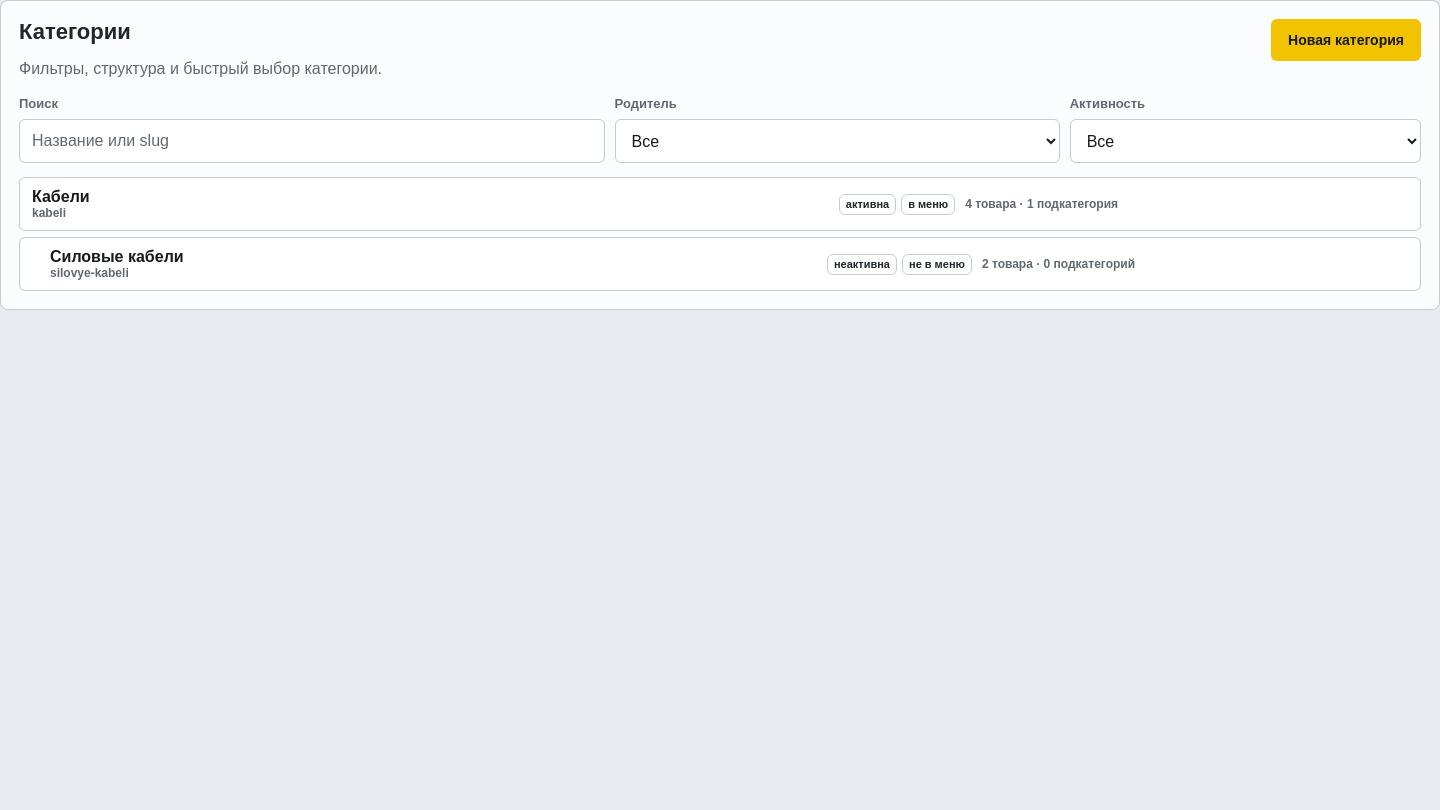
Test: AdminCategoryManager › подтверждает закрытие категории при изменениях формы, родителя или порядка
Click the list item "Силовые кабели" at (117,257), box [19,237,1421,291]
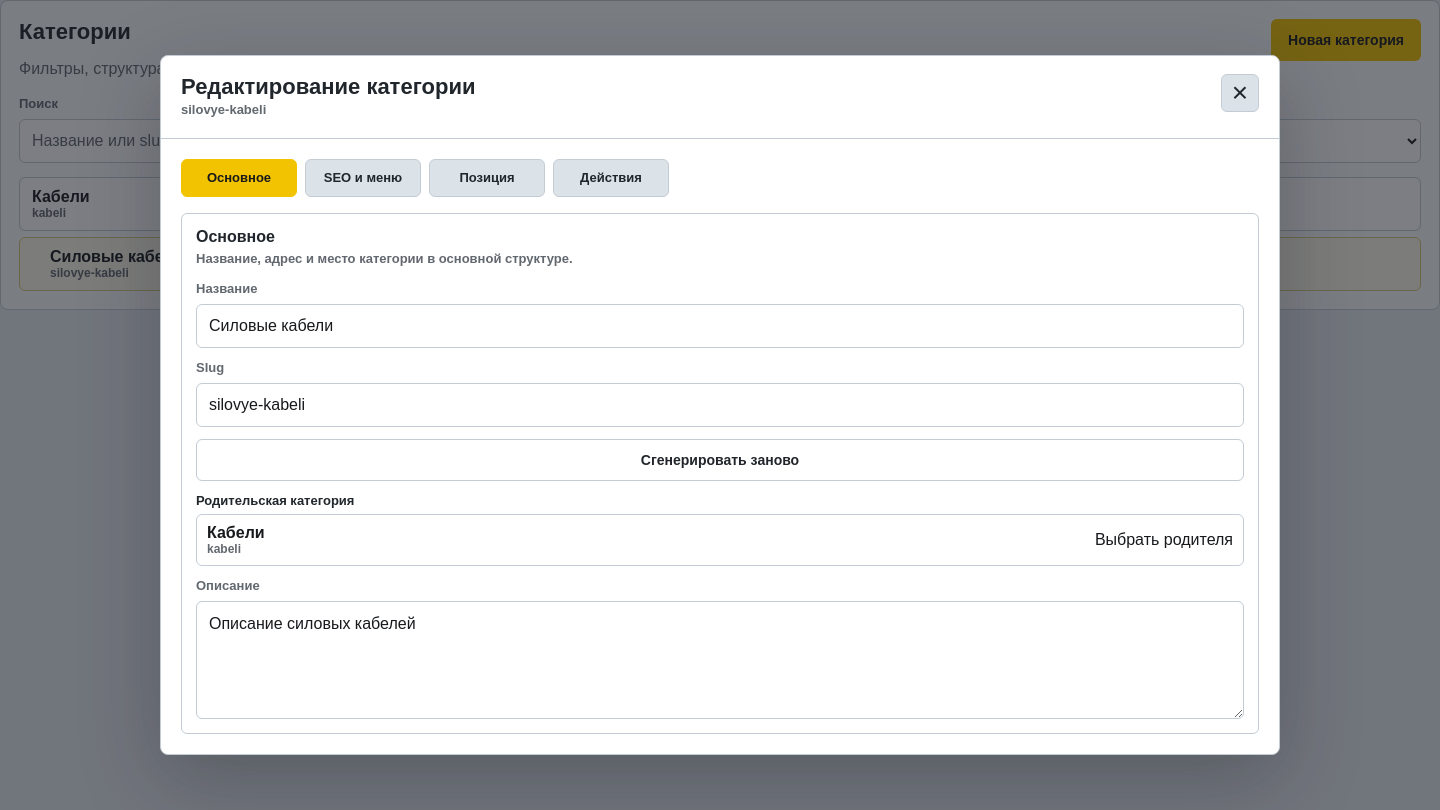
Click the tab "Позиция" at (487,178), box [429,159,545,197]
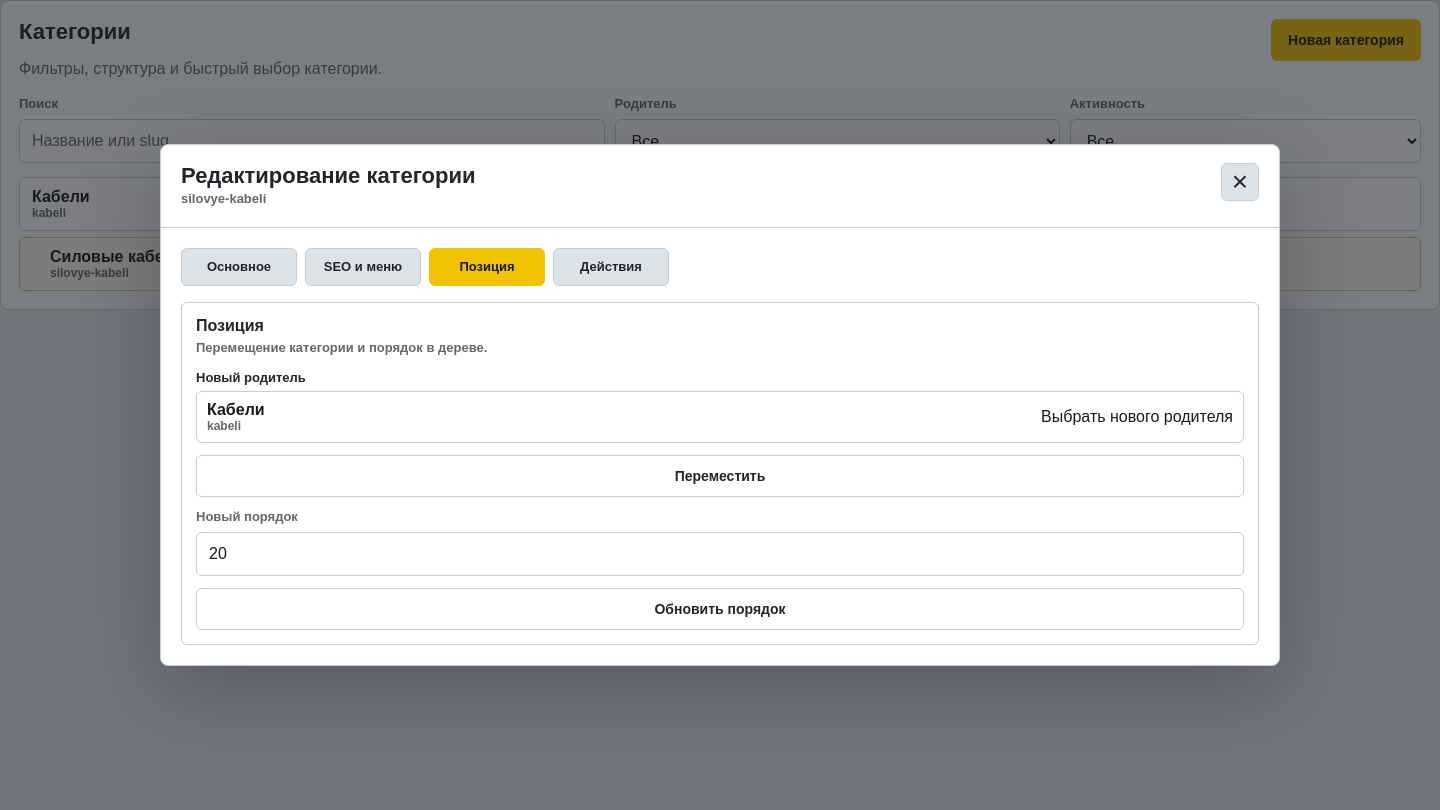
Replace the text in the number field labelled "Новый порядок" with "25" at (720,554), box [196,532,1244,576]
Click the button named "Закрыть редактор категории" at (1240,182), box [1221,164,1259,202]
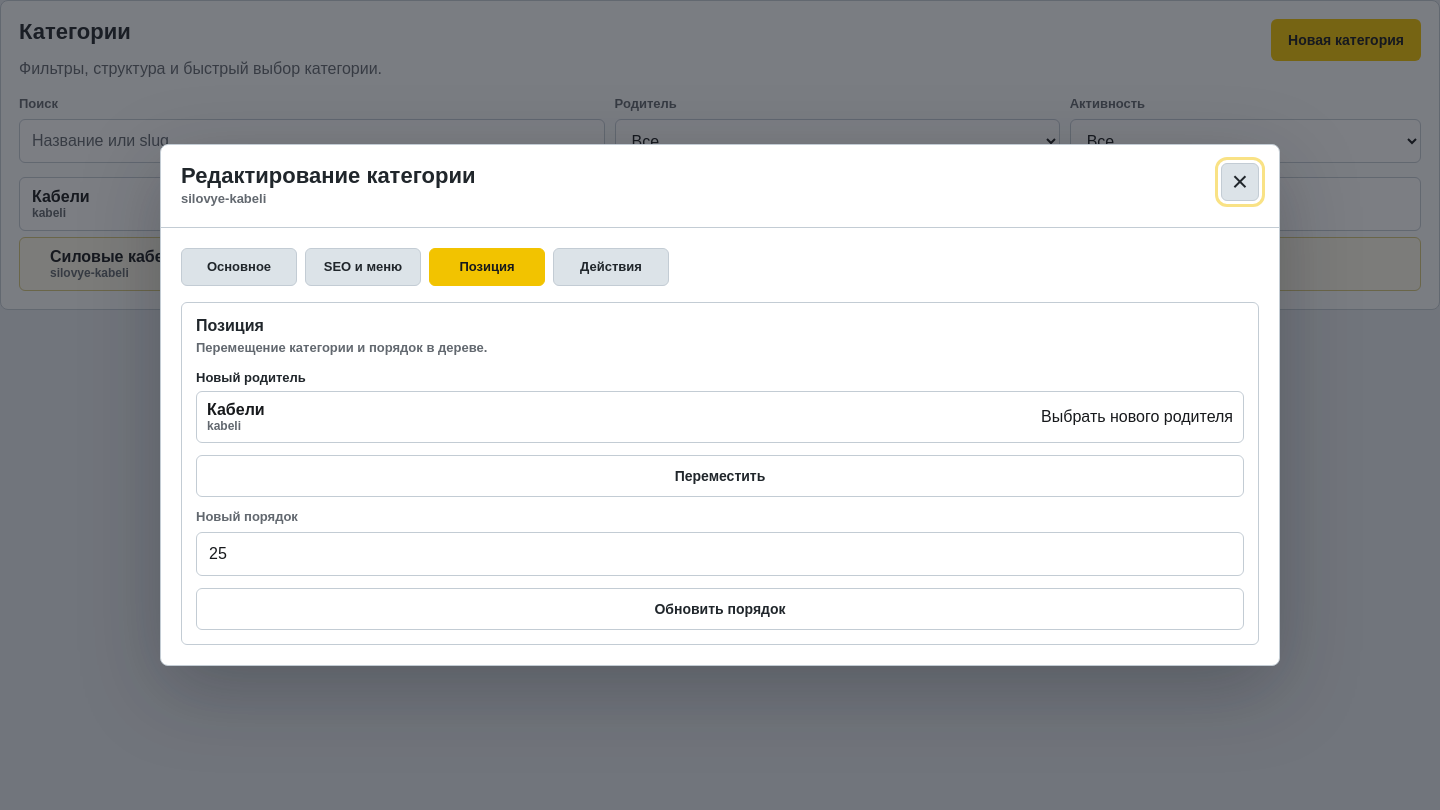
Now the dialog "Редактирование категории" is shown, box [160,144,1280,666]
Click the button "Кабели kabeli Выбрать нового родителя" at (236,409), box [196,390,1244,442]
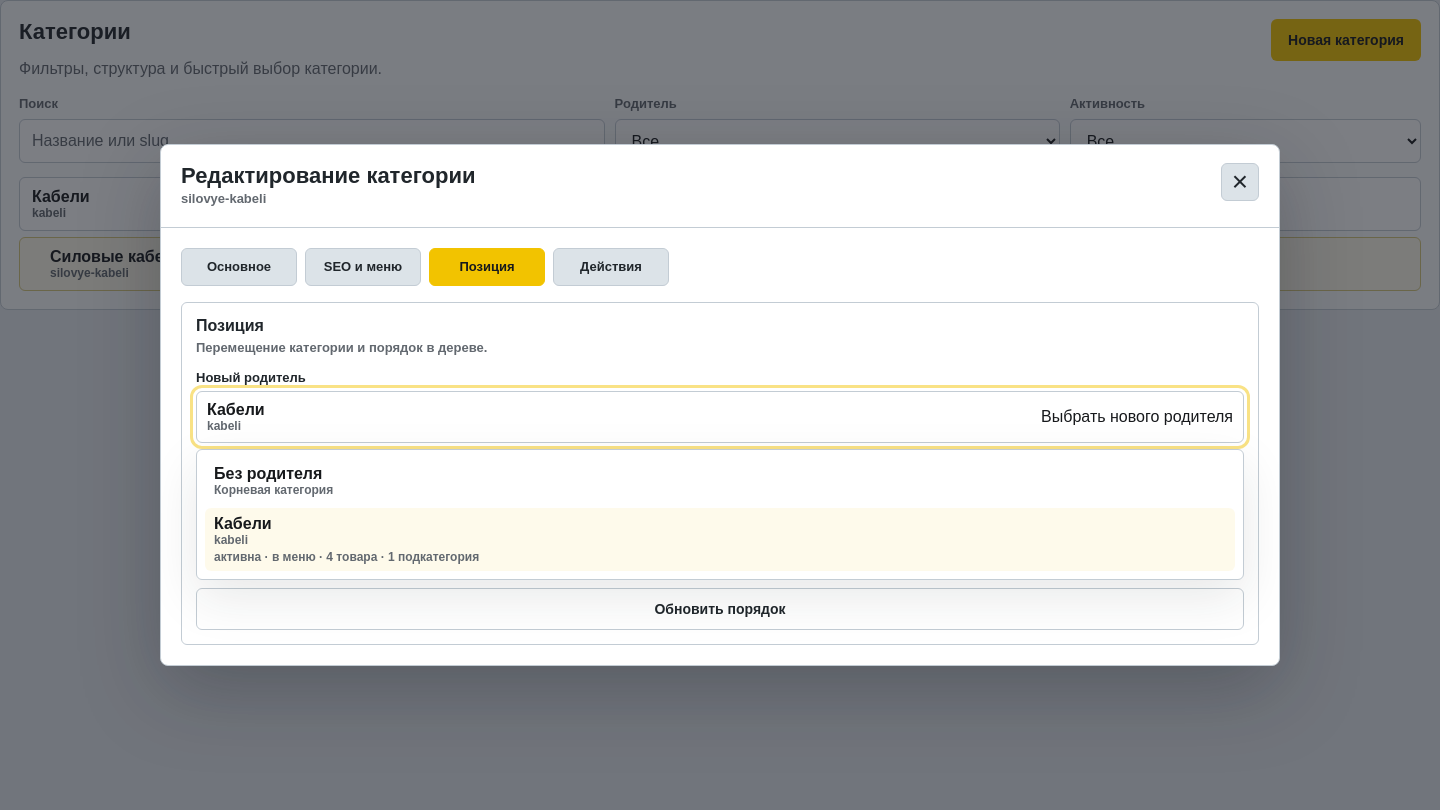
Click the option "Без родителя Корневая категория" at (268,473), box [205,458,1235,504]
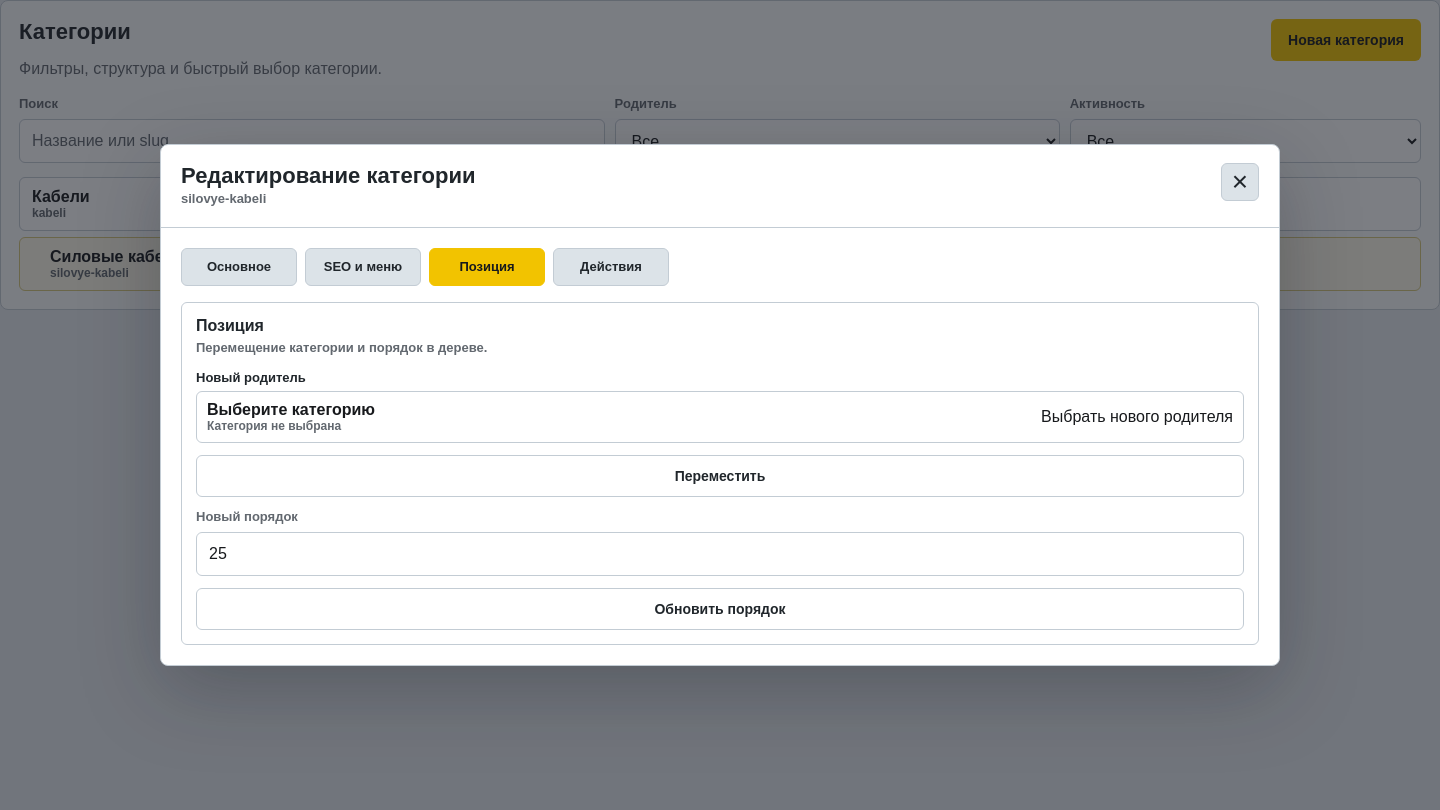
Press Escape
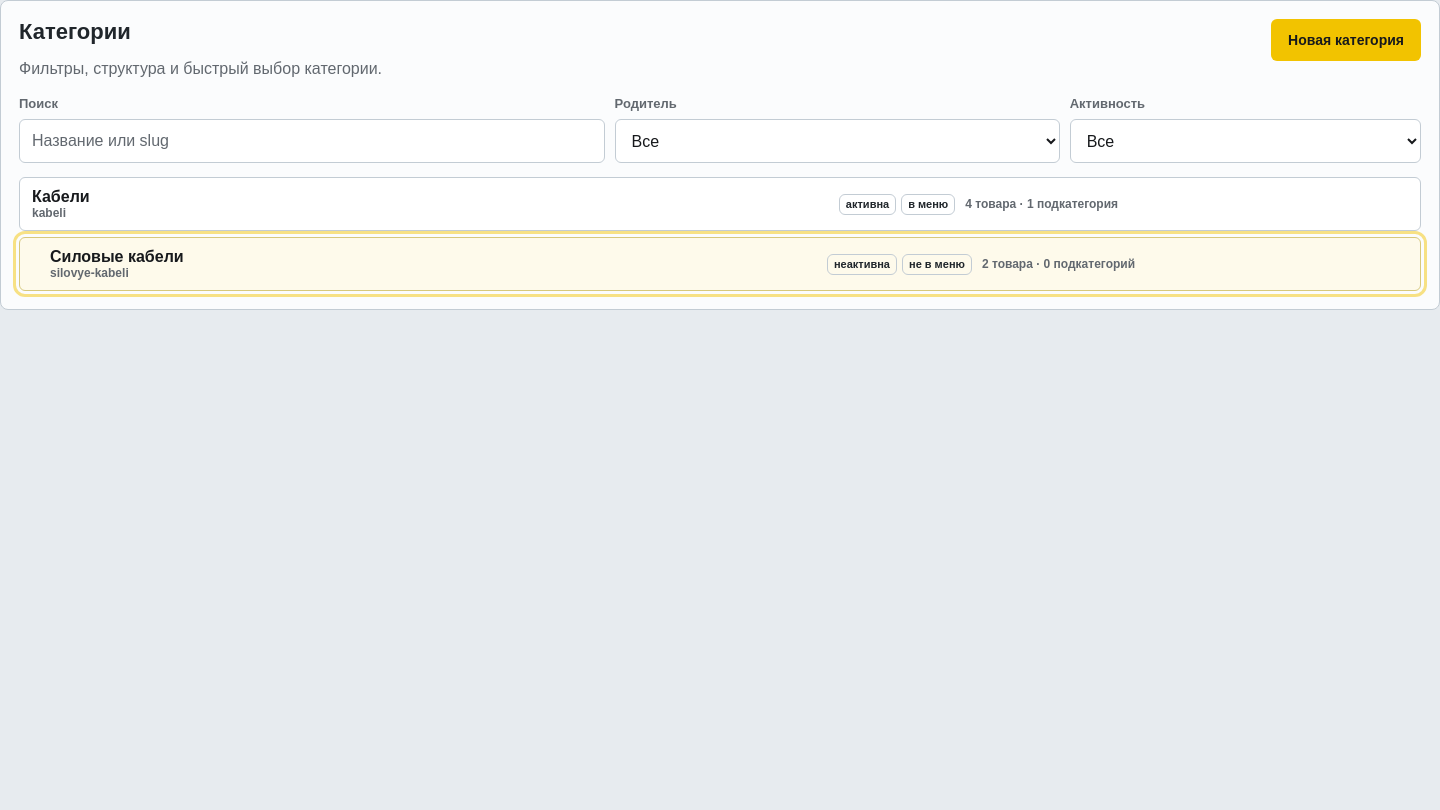
Now the dialog is gone
